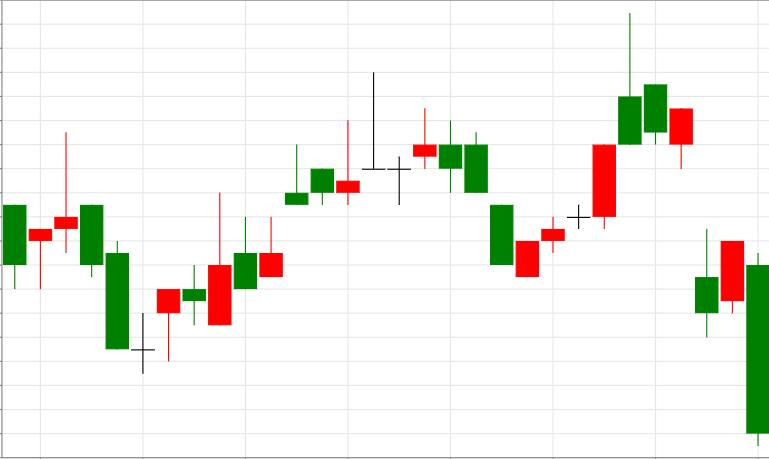shooting_star_fall: (516, 13, 642, 277)
